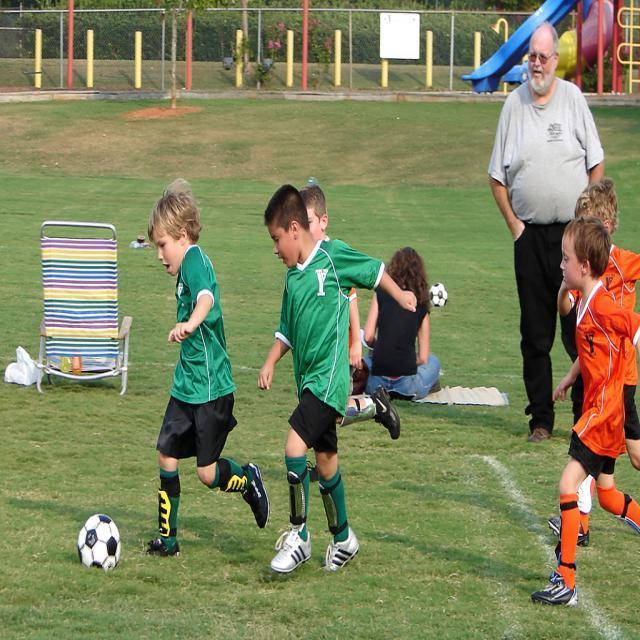ball: (76, 512, 121, 569), (429, 279, 448, 309)
